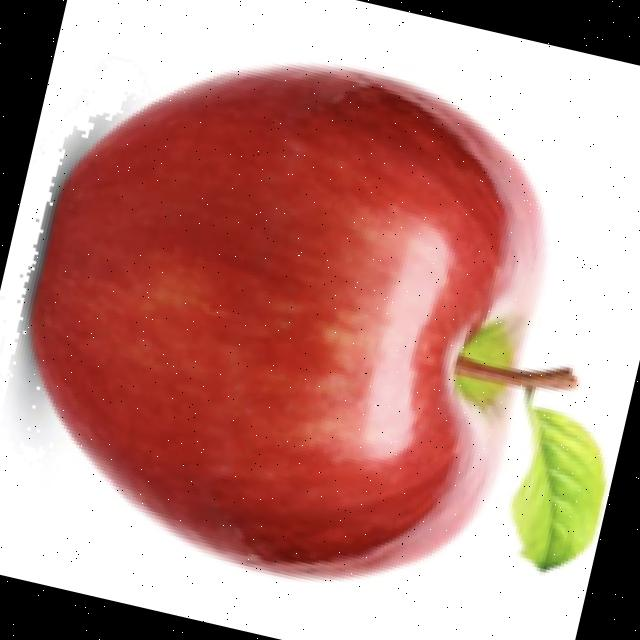apple: (0, 57, 610, 584)
